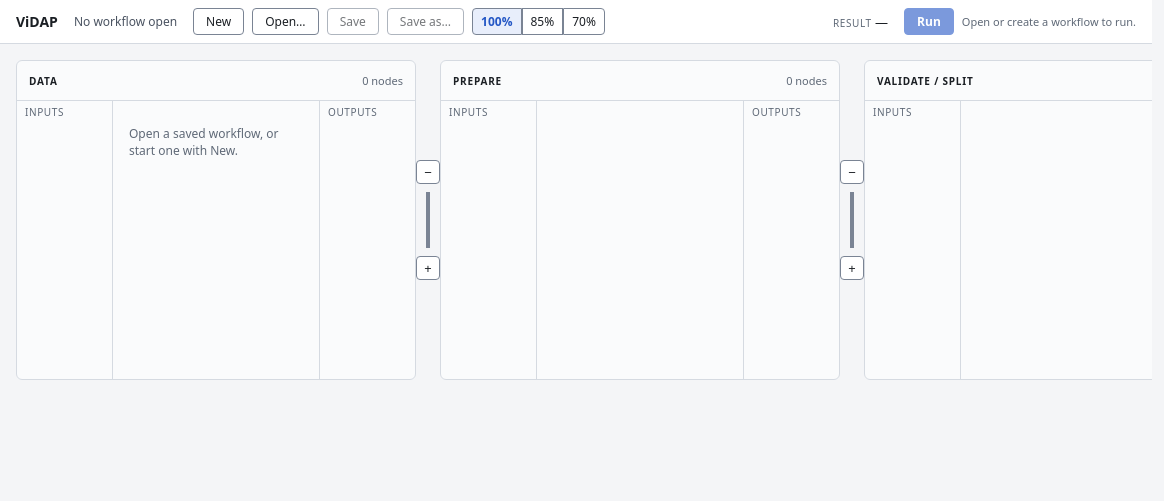
Test: Editor workspace › lays out the slice in its five regions with Not run chips
The image size is (1164, 501).
Click the button "Open…" at (285,22), box [252,8,319,35]
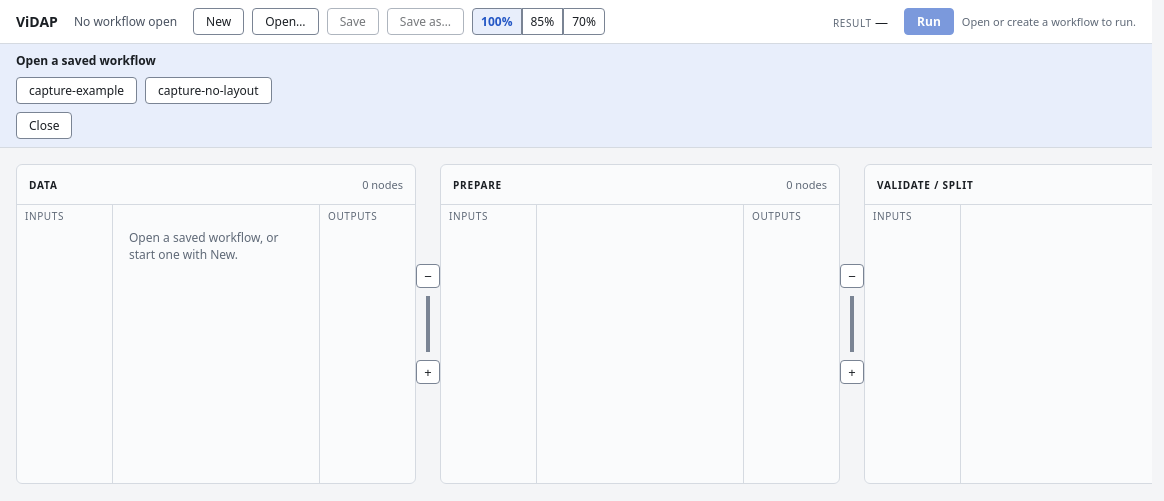
Click the button "capture-example" at (76,90), box [16,77,137,104]
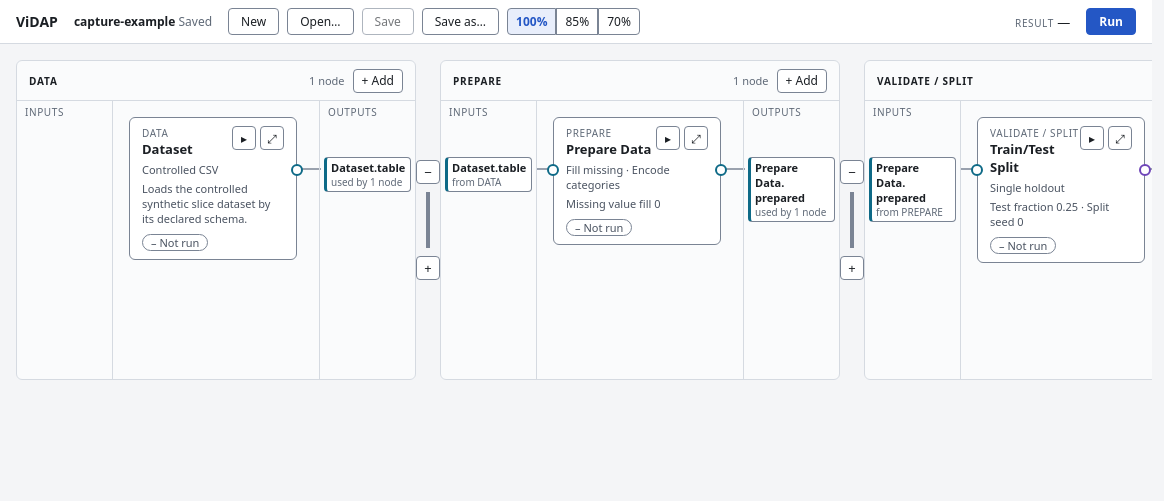
Expected: the element named "Primary result" reads "Result —", [1015,12,1070,30]
Expected: the text "Not run" is shown 5 times
Expected: the button "Run" is enabled, [1086,8,1136,35]
